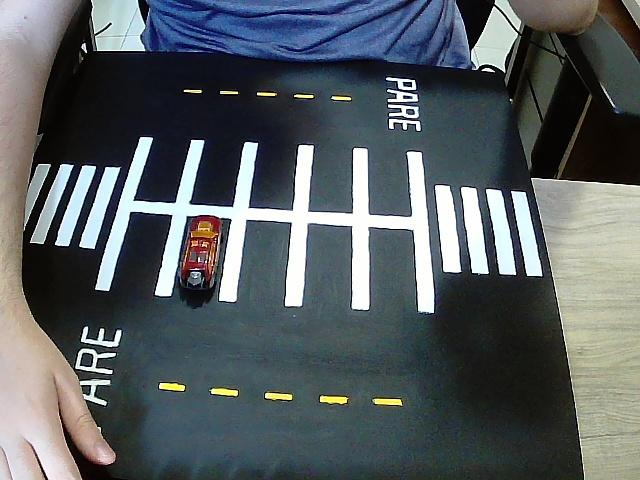Carro: (177, 216, 221, 292)
